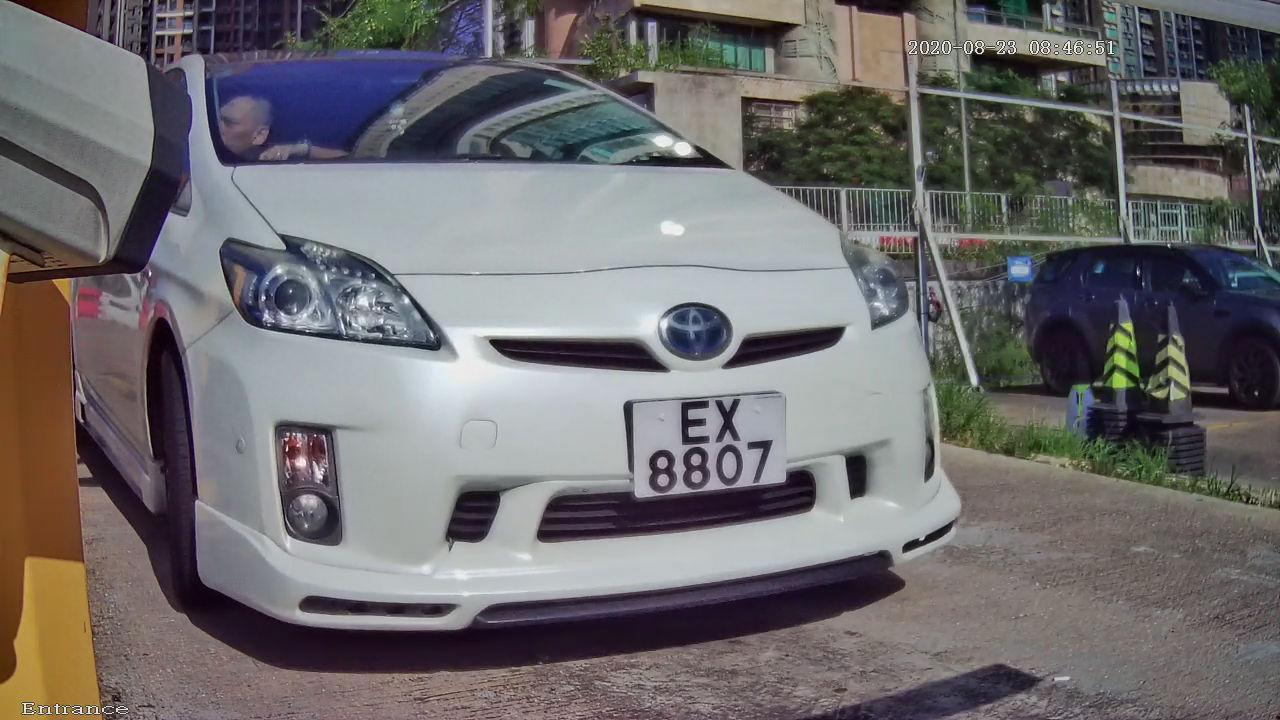Car: (58, 10, 1052, 701)
License Plate: (601, 364, 812, 518)
